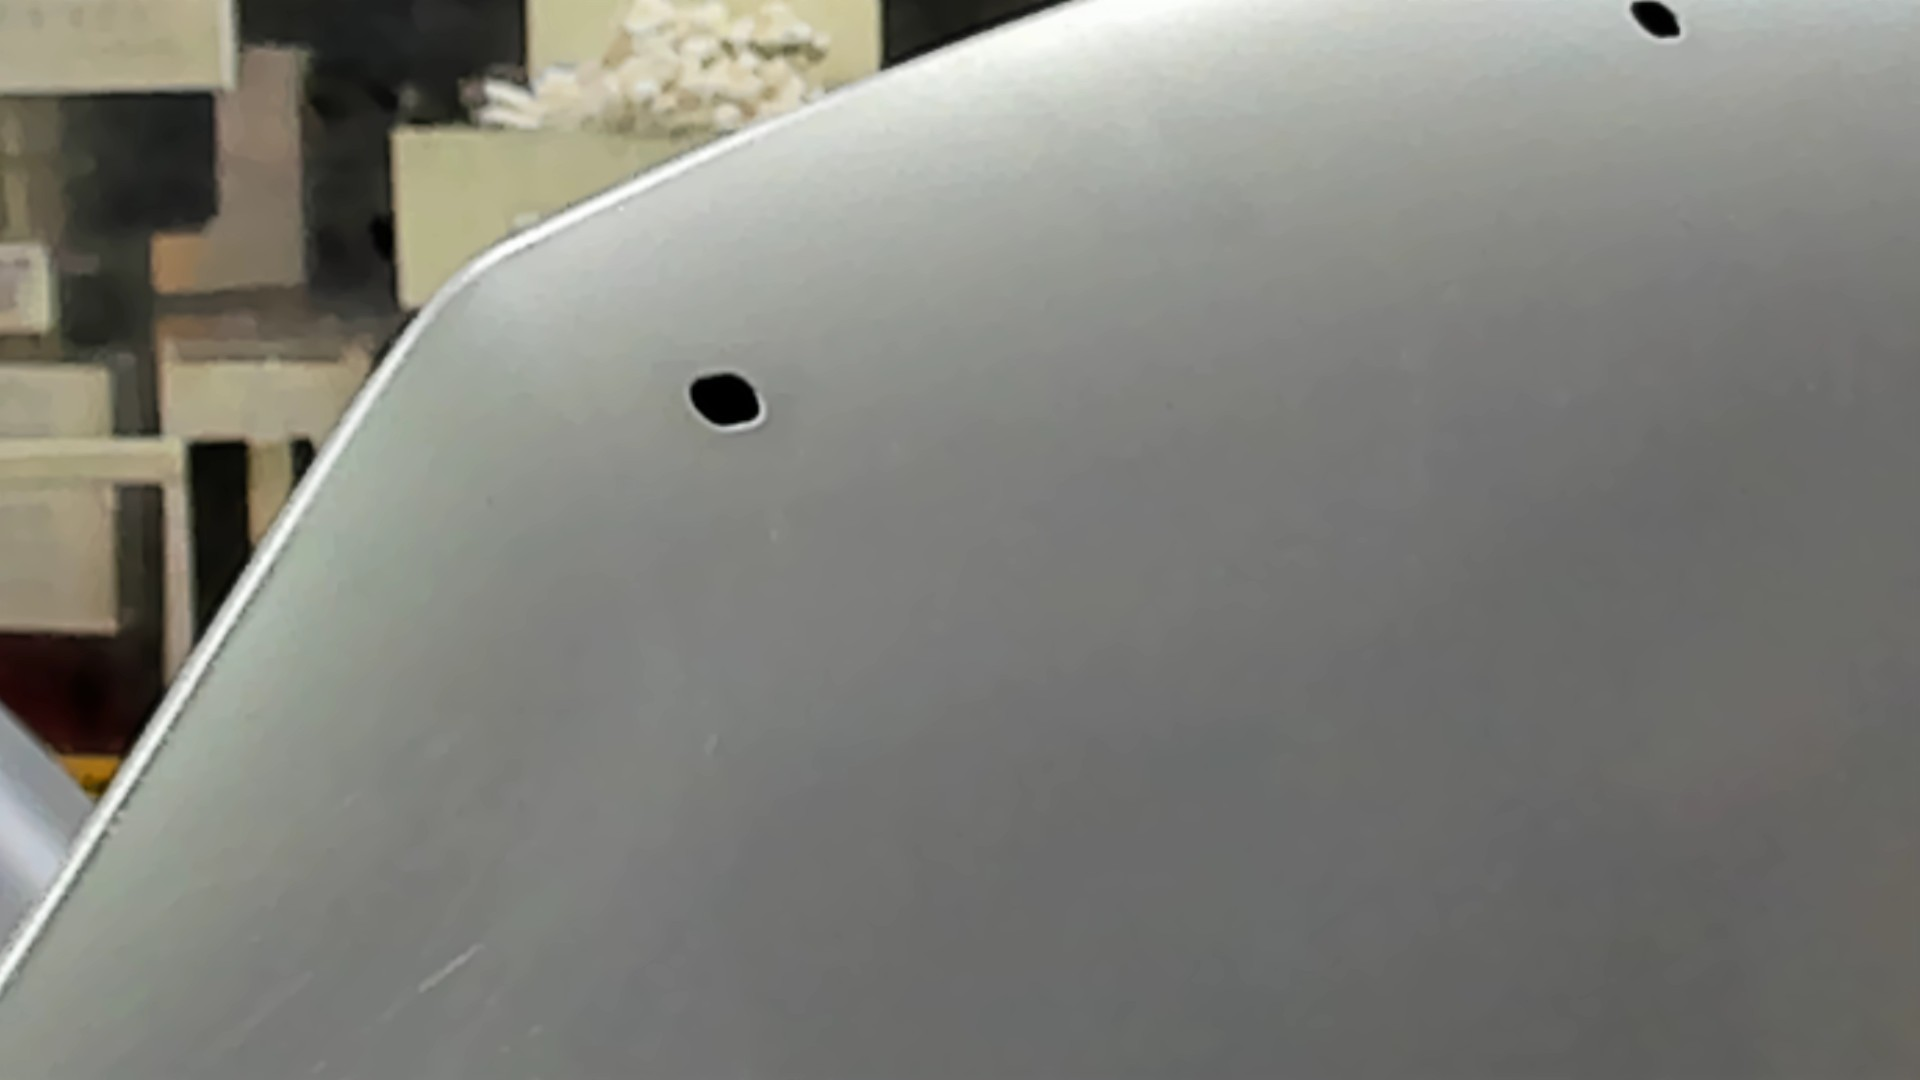amorfo: (678, 369, 771, 433), (1627, 1, 1687, 45)
